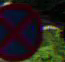No Stopping: (1, 2, 46, 61)
